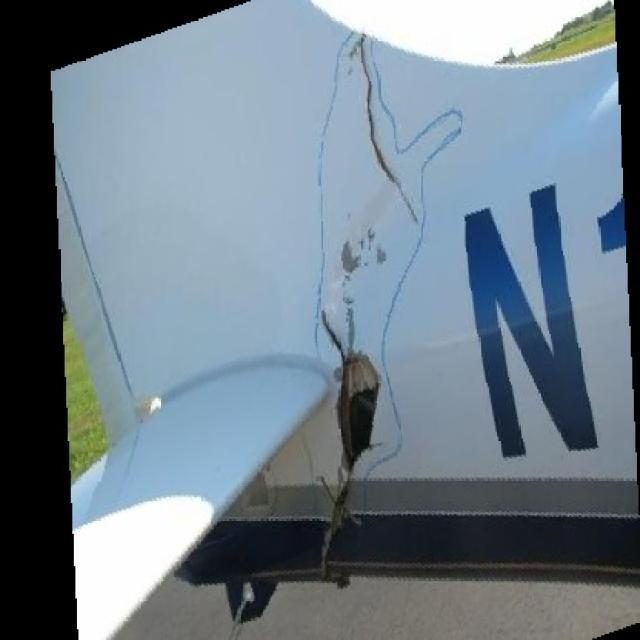crack: (349, 41, 412, 201)
